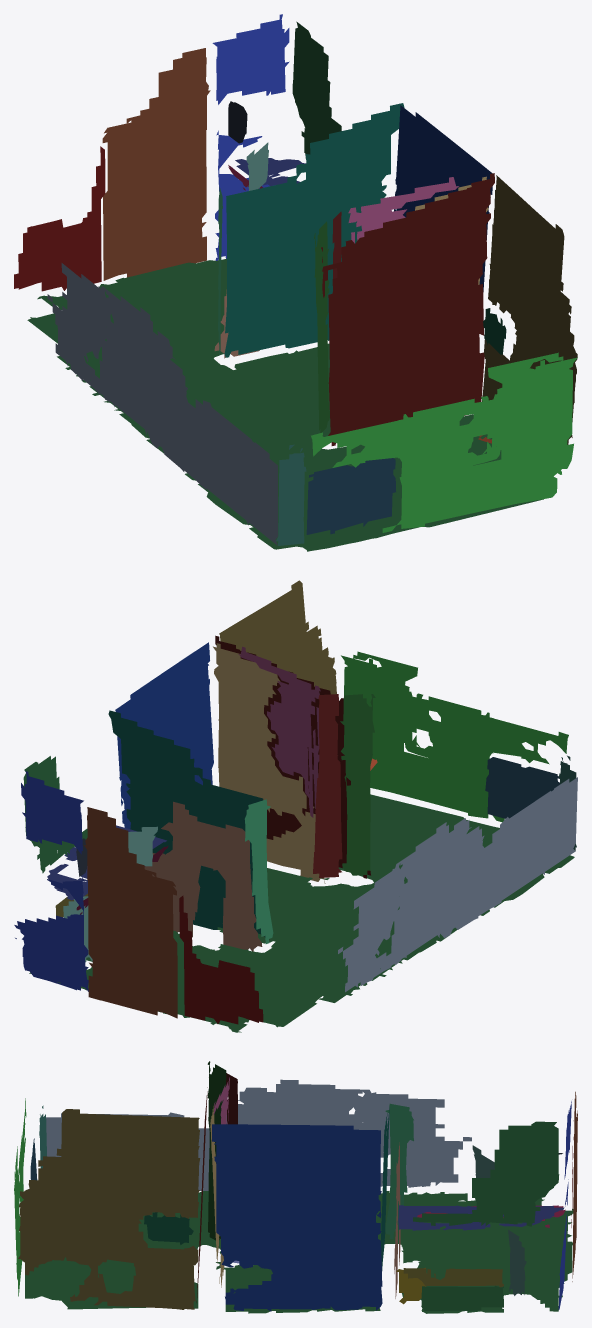
File: AirPlanes-scene0084_00.glb
3 views of the same model, one above another, from view 1: azimuth 30°, elevation 25°; view 2: azimuth 150°, elevation 25°; view 3: azimuth 270°, elevation 25° (orthographic). The views are drawn at different scales.
Parts seen in each view (by area): view 1: scene0084_00_AirPlanes; view 2: scene0084_00_AirPlanes; view 3: scene0084_00_AirPlanes.
Boxes of the visible parts, <box> form: scene0084_00_AirPlanes: <box>14,14,577,551</box>; scene0084_00_AirPlanes: <box>14,580,577,1032</box>; scene0084_00_AirPlanes: <box>14,1061,577,1313</box>.
Size of the model in its own units: 2.85 by 2.01 by 4.94.
